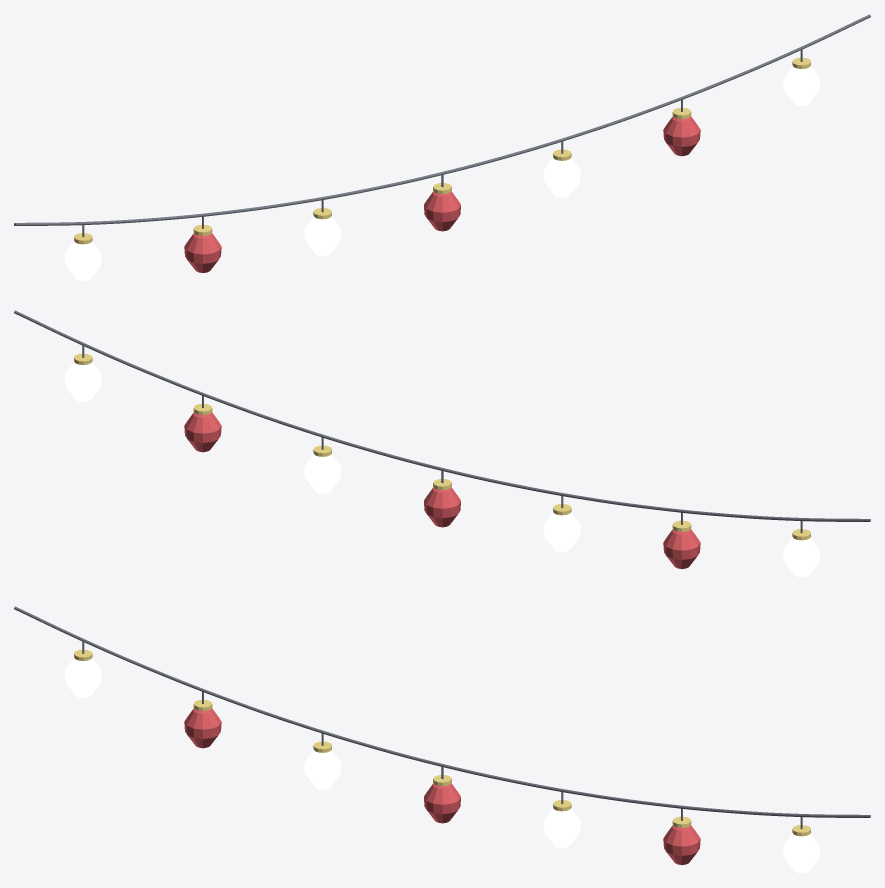
The model's file is SM_Prop_LanternGarland.fbx.
3 renders of one model, top to bottom at view 1: azimuth 30°, elevation 25°; view 2: azimuth 150°, elevation 25°; view 3: azimuth 330°, elevation 25°, orthographic.
Parts seen in each view (by area): view 1: CordCatenary, Lantern_1, Lantern_4, Lantern_5, Lantern_6, Lantern_0, Lantern_2, Lantern_3; view 2: CordCatenary, Lantern_1, Lantern_4, Lantern_5, Lantern_6, Lantern_0, Lantern_2, Lantern_3; view 3: CordCatenary, Lantern_5, Lantern_0, Lantern_1, Lantern_2, Lantern_4, Lantern_6, Lantern_3.
Boxes of the visible parts, box(x1,y1,x2,y2) form: CordCatenary: box(14, 14, 870, 225); Lantern_1: box(184, 233, 221, 272); Lantern_4: box(543, 158, 580, 197); Lantern_5: box(663, 116, 700, 156); Lantern_6: box(783, 66, 820, 106); Lantern_0: box(64, 241, 101, 281); Lantern_2: box(304, 216, 341, 256); Lantern_3: box(424, 191, 460, 231); CordCatenary: box(14, 310, 870, 521); Lantern_1: box(663, 529, 700, 568); Lantern_4: box(304, 454, 341, 493); Lantern_5: box(184, 412, 221, 452); Lantern_6: box(64, 362, 101, 402); Lantern_0: box(783, 537, 820, 577); Lantern_2: box(543, 512, 580, 552); Lantern_3: box(424, 487, 460, 527); CordCatenary: box(14, 606, 870, 817); Lantern_5: box(663, 825, 700, 864); Lantern_0: box(64, 658, 101, 698); Lantern_1: box(184, 708, 221, 748); Lantern_2: box(304, 750, 341, 789); Lantern_4: box(543, 808, 580, 848); Lantern_6: box(783, 833, 820, 873); Lantern_3: box(424, 783, 460, 823).
Size of the model in its own units: 7.4 by 0.9312 by 0.28.
